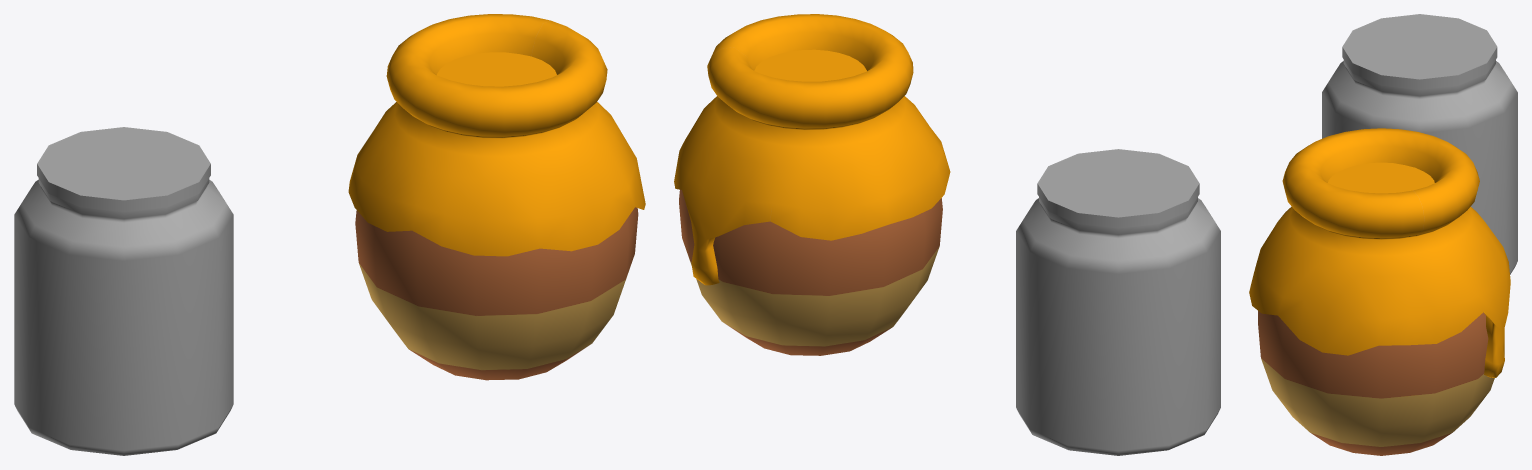
File: honey_pots.fbx
The picture shows the model from 3 angles, left to right: view 1: azimuth 30°, elevation 25°; view 2: azimuth 150°, elevation 25°; view 3: azimuth 270°, elevation 25°; orthographic projection. The views are drawn at different scales.
Visible parts, largest first — view 1: honey_pot, honey_jar; view 2: honey_pot, honey_jar; view 3: honey_pot, honey_jar.
Boxes of the visible parts, left/top/right/bottom form: honey_pot: left=348, top=14, right=645, bottom=380; honey_jar: left=14, top=127, right=233, bottom=455; honey_pot: left=674, top=14, right=950, bottom=355; honey_jar: left=1016, top=149, right=1220, bottom=455; honey_pot: left=1249, top=128, right=1510, bottom=455; honey_jar: left=1322, top=14, right=1517, bottom=274.
Size of the model in its own units: 150 by 76.56 by 67.8.
